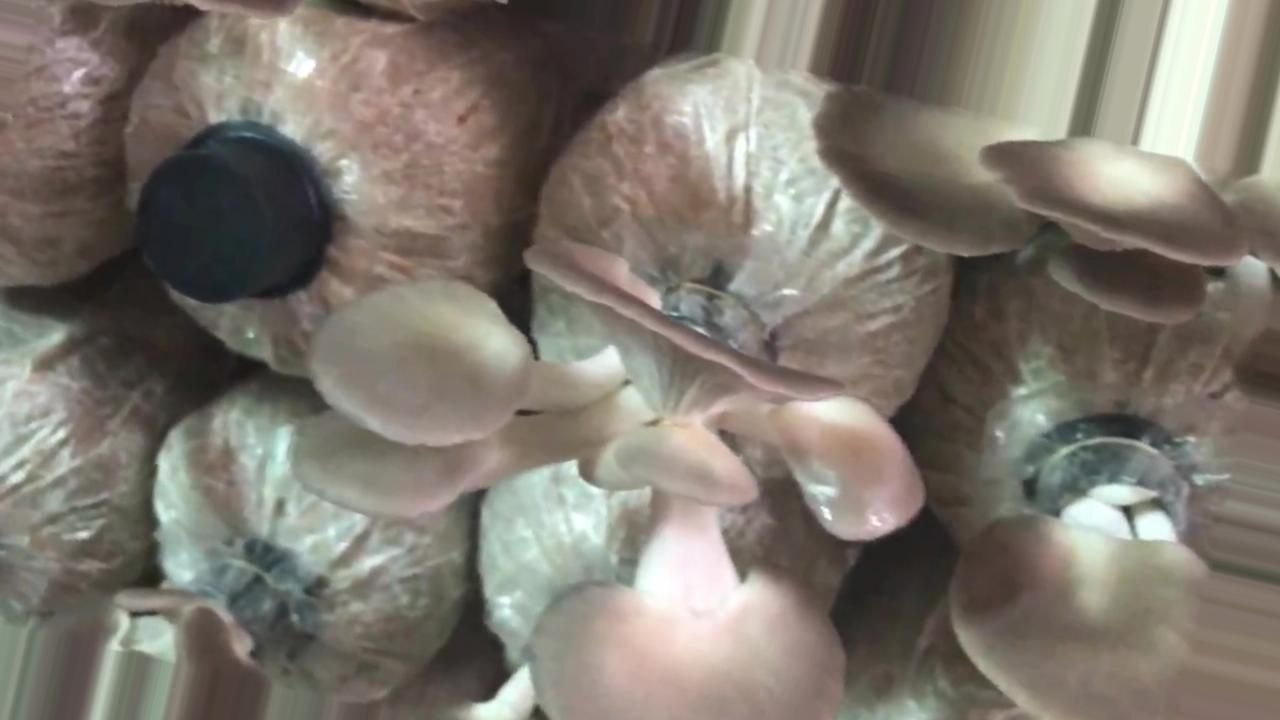nam: (289, 237, 927, 720), (809, 67, 1249, 330), (948, 416, 1278, 720)
